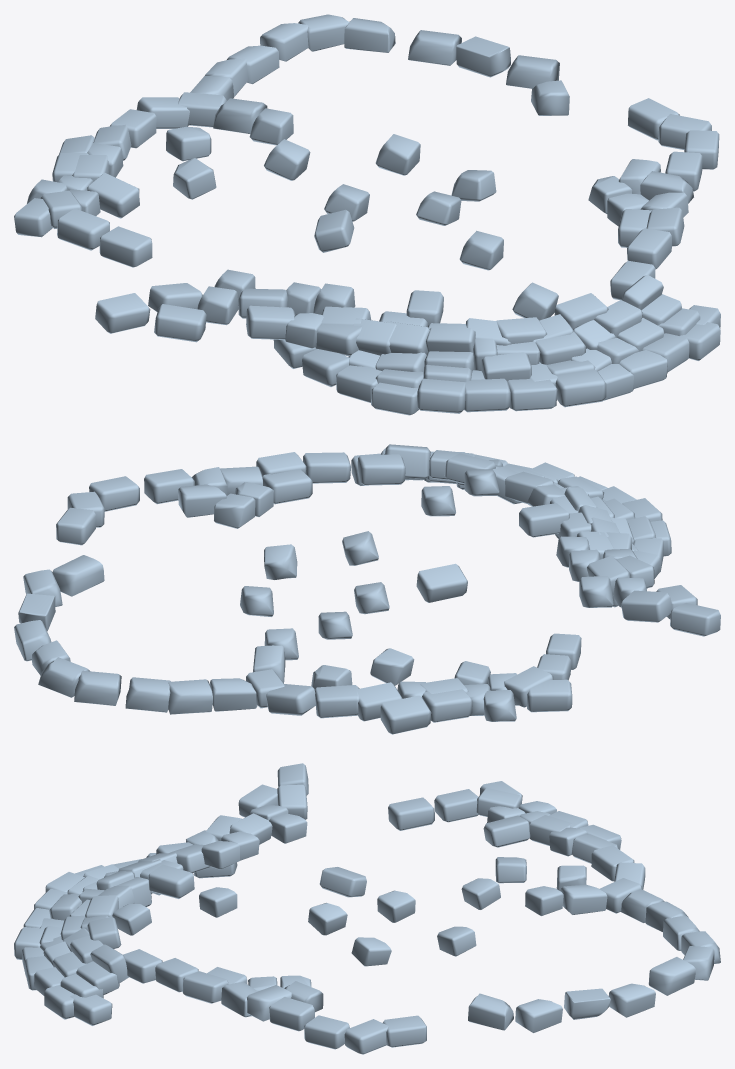
The model's file is Floor_Break_04D_Lod0.fbx.
The picture shows the model from 3 angles, top to bottom: view 1: azimuth 30°, elevation 25°; view 2: azimuth 150°, elevation 25°; view 3: azimuth 270°, elevation 25°; orthographic projection. The views are drawn at different scales.
Parts seen in each view (by area): view 1: Floor_Break_04D_Lod0; view 2: Floor_Break_04D_Lod0; view 3: Floor_Break_04D_Lod0.
Part boxes in pixels (left/top/right/bottom): Floor_Break_04D_Lod0: left=14, top=14, right=720, bottom=415; Floor_Break_04D_Lod0: left=14, top=444, right=720, bottom=734; Floor_Break_04D_Lod0: left=14, top=763, right=720, bottom=1054.
Bounding box in the file's own units: 810 × 99.57 × 884.
